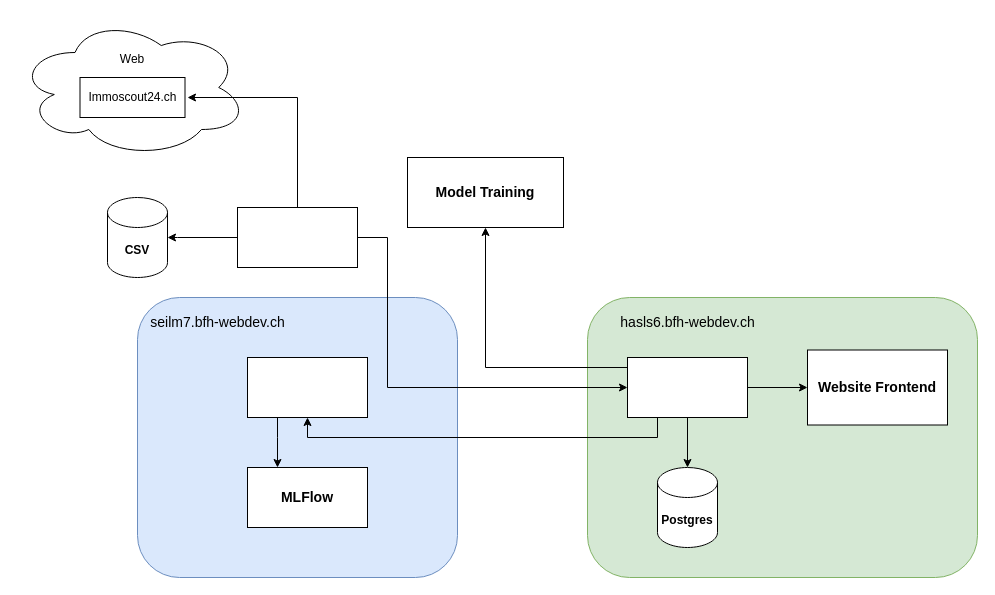
Some shapes in this 995 by 595 pixel diagram are drawn without their labels. The shapes that lost their labels are listed below. From the top down, each one's centre as x and y in pixels, then its label:
pixel 297 237: Web Scraper / Data Dispatcher
pixel 307 387: Inference API
pixel 687 387: Webdev API
